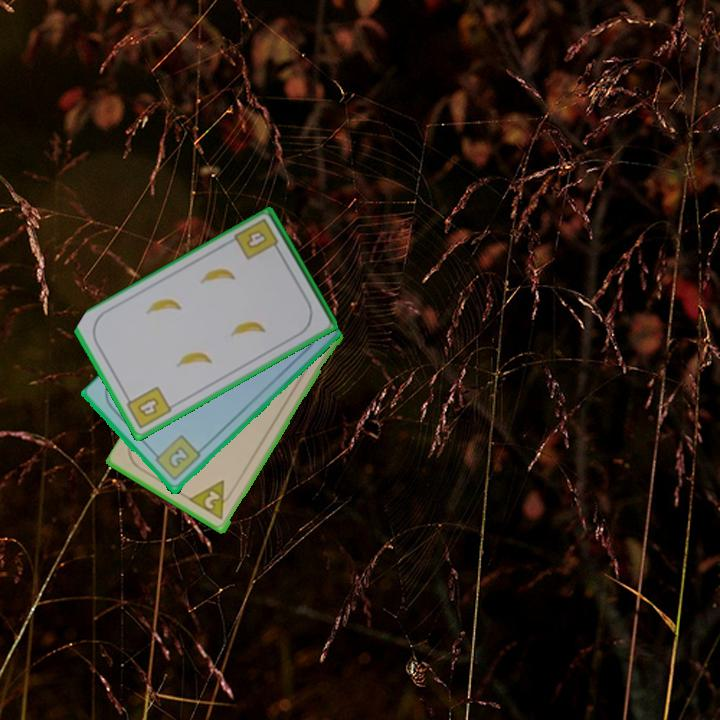2b: (149, 432, 203, 484)
2p: (201, 488, 223, 512)
4b: (121, 383, 174, 432), (231, 215, 284, 263)
